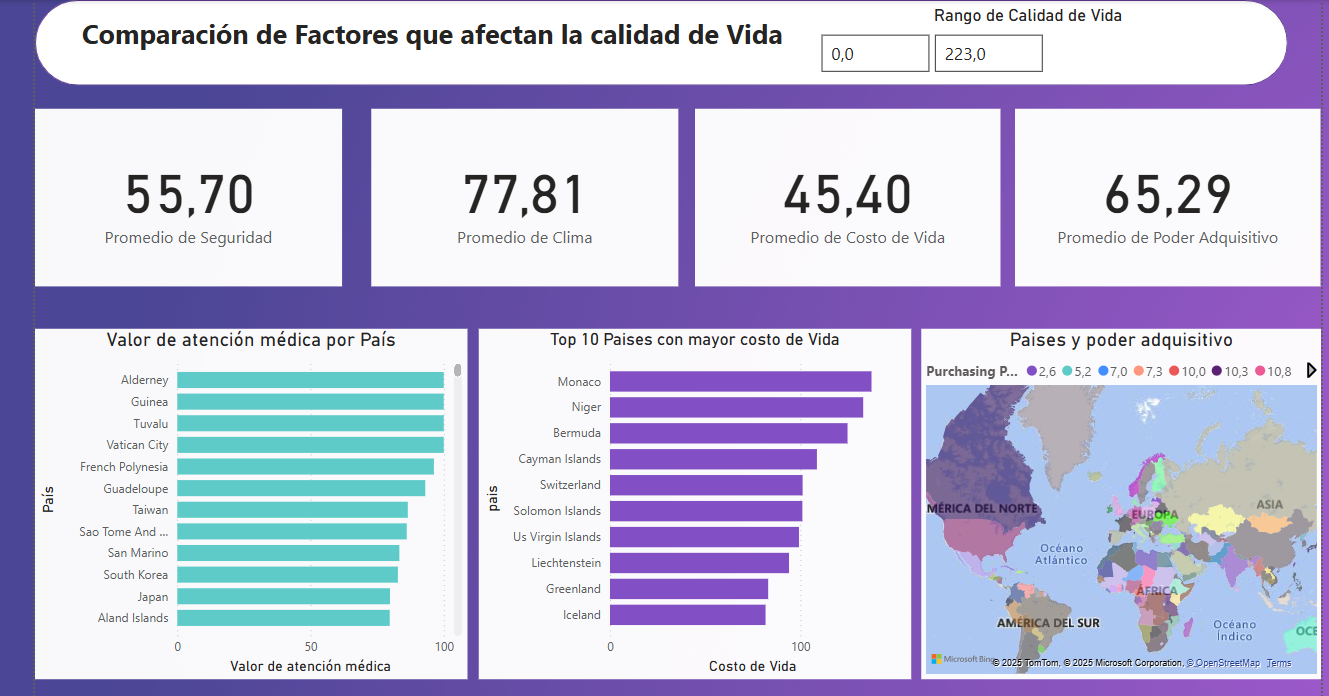

The page's visual inventory and layout, read from the dashboard file:
{"tool":"powerbi","page":{"name":"Página 2","canvas":[1280,720],"ordinal":1},"visuals":[{"type":"shape","box":[0,0,1246.7,85],"z":0},{"type":"textbox","box":[35.7,10,718.6,67.1],"z":1000},{"type":"card","fields":{"Values":["qualitylife.Promedio de Seguridad"]},"box":[0,108.6,305.7,177.1],"z":2000},{"type":"card","fields":{"Values":["qualitylife.Promedio de Clima"]},"box":[334.3,108.6,305.7,177.1],"z":3000},{"type":"card","fields":{"Values":["qualitylife.Promedio de Costo de Vida"]},"box":[657.1,108.6,304.3,177.1],"z":4000},{"type":"card","fields":{"Values":["qualitylife.Promedio de Poder Adquisitivo"]},"box":[975.7,108.6,304.3,177.1],"z":5000},{"type":"barChart","fields":{"Category":["qualitylife.country"],"Y":["Sum(qualitylife.Health Care Value)"]},"box":[0,327.1,430,348.6],"z":6000},{"type":"barChart","title":"Top 10 Paises con mayor costo de Vida","fields":{"Category":["qualitylife.country"],"Y":["Sum(qualitylife.Cost of Living Value)"]},"box":[441.4,327.1,430,348.6],"z":7000},{"type":"slicer","title":"Rango de Calidad de Vida","fields":{"Values":["qualitylife.Quality of Life Value"]},"box":[770,5,436.7,76.7],"z":8000},{"type":"filledMap","title":"Paises y poder adquisitivo","fields":{"Category":["qualitylife.country"],"Series":["qualitylife.Purchasing Power Value"]},"box":[881.4,327.1,398.6,348.6],"z":9000}]}

Visuals, with their boxes on the page's 1280x720 design canvas (x1, y1, x2, y2). These are canvas units, not pixel positions in the 1329x696 screenshot, which may show the page scaled, cropped or inside an application window:
shape: (0, 0, 1247, 85)
textbox: (36, 10, 754, 77)
card - qualitylife.Promedio de Seguridad: (0, 109, 306, 286)
card - qualitylife.Promedio de Clima: (334, 109, 640, 286)
card - qualitylife.Promedio de Costo de Vida: (657, 109, 961, 286)
card - qualitylife.Promedio de Poder Adquisitivo: (976, 109, 1280, 286)
barChart - qualitylife.country x Sum(qualitylife.Health Care Value): (0, 327, 430, 676)
"Top 10 Paises con mayor costo de Vida" barChart: (441, 327, 871, 676)
"Rango de Calidad de Vida" slicer: (770, 5, 1207, 82)
"Paises y poder adquisitivo" filledMap: (881, 327, 1280, 676)
